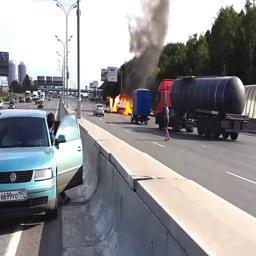fire: (110, 94, 133, 115)
